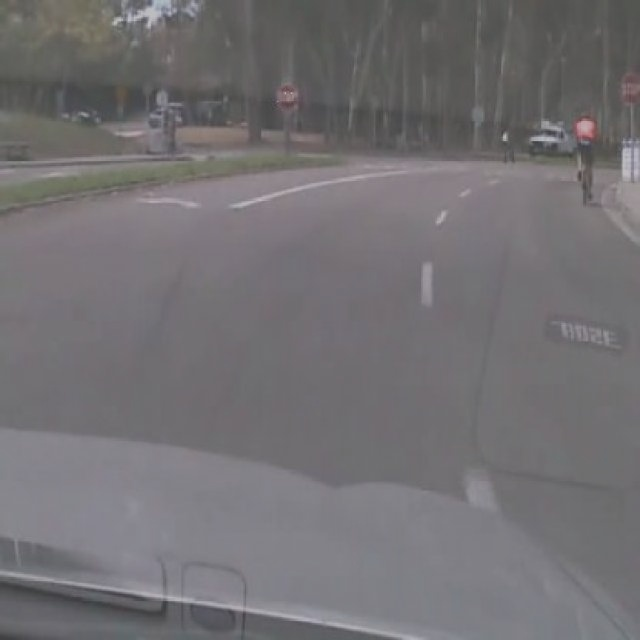stop: (277, 80, 298, 112)
